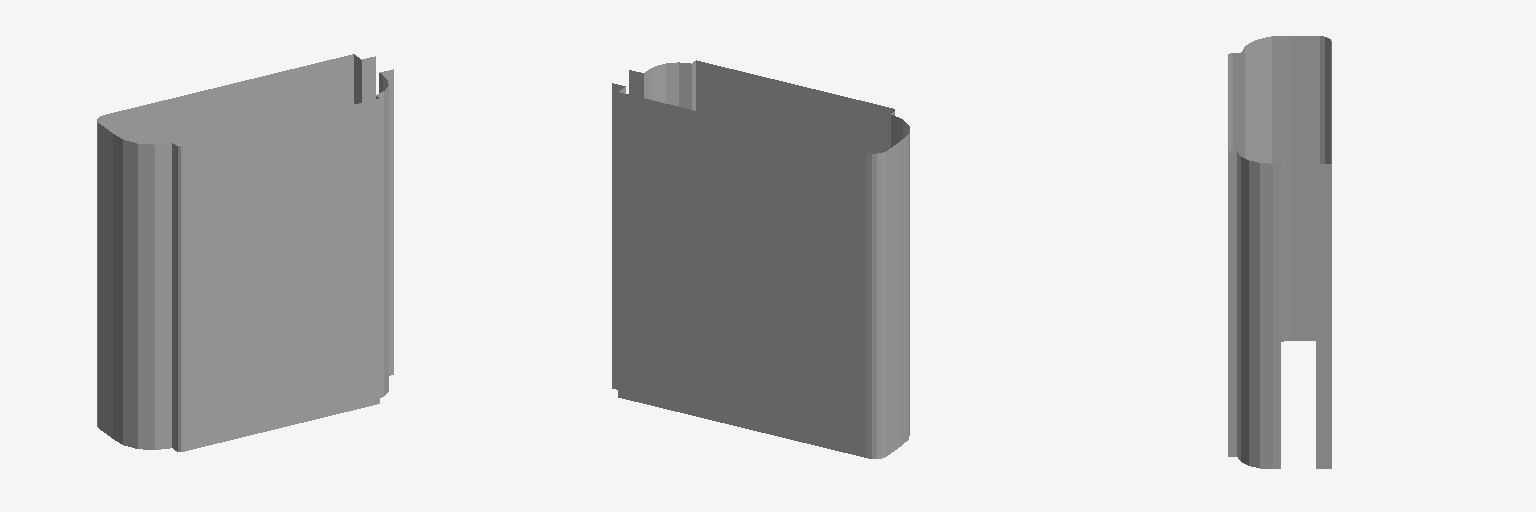
Rendered from original-38.obj.
3 views of the same model, side by side, from view 1: azimuth 30°, elevation 25°; view 2: azimuth 150°, elevation 25°; view 3: azimuth 270°, elevation 25° (orthographic).
Visible parts, largest first — view 1: DF_12_CL1/DF_12_CL/mesh26/mesh26-geometry#mesh26-geometry; view 2: DF_12_CL1/DF_12_CL/mesh26/mesh26-geometry#mesh26-geometry; view 3: DF_12_CL1/DF_12_CL/mesh26/mesh26-geometry#mesh26-geometry.
Part boxes in pixels (x1,y1,x2,y2): DF_12_CL1/DF_12_CL/mesh26/mesh26-geometry#mesh26-geometry: (97, 54, 393, 451); DF_12_CL1/DF_12_CL/mesh26/mesh26-geometry#mesh26-geometry: (612, 60, 909, 458); DF_12_CL1/DF_12_CL/mesh26/mesh26-geometry#mesh26-geometry: (1228, 36, 1331, 468).
Size of the model in its own units: 0.1004 by 0.1061 by 0.0327.